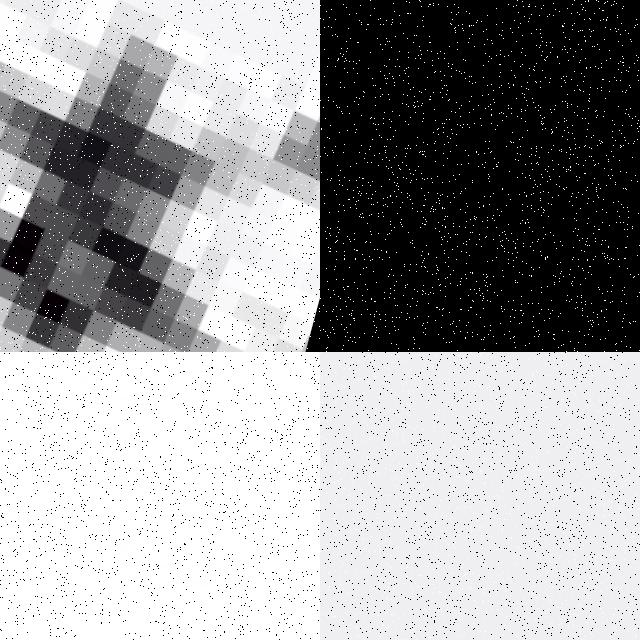0: (0, 0, 320, 352)
drone: (0, 352, 320, 640)
